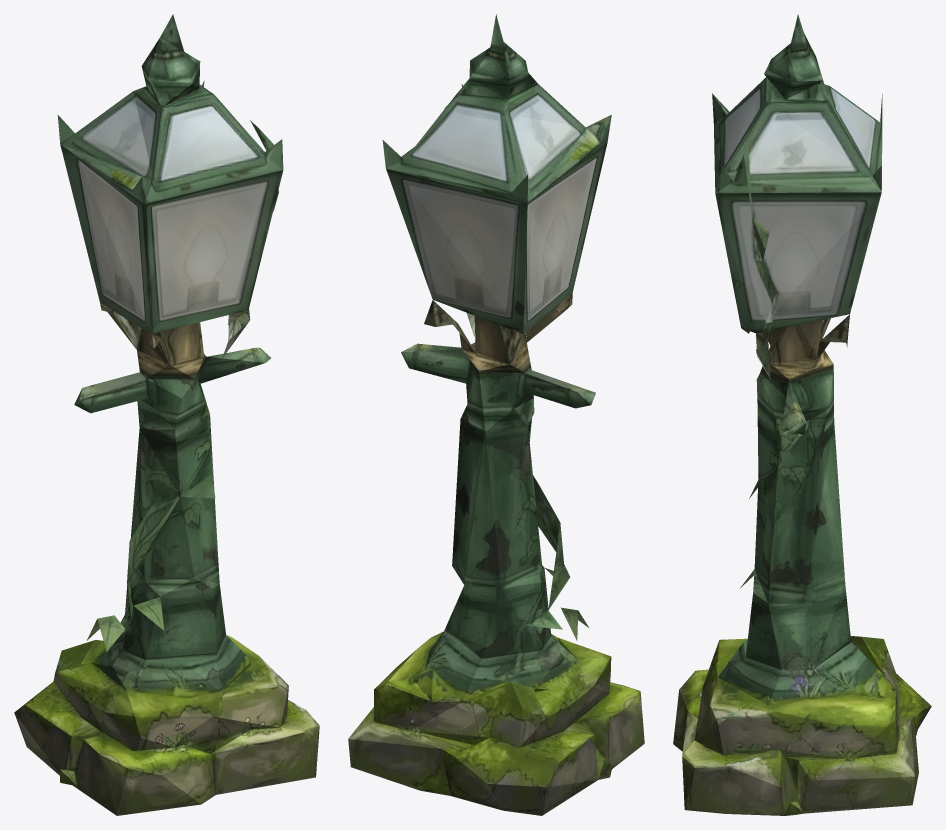
Rendered from meshy.glb.
The picture shows the model from 3 angles, left to right: view 1: azimuth 30°, elevation 25°; view 2: azimuth 150°, elevation 25°; view 3: azimuth 270°, elevation 25°; orthographic projection.
Bounding box in the file's own units: 0.5938 × 1.9 × 0.5901.
1 material, 1 textured.
